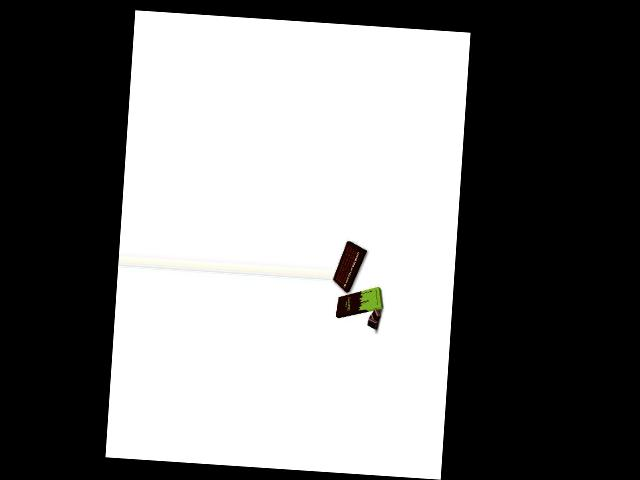chocolate: (335, 286, 385, 317)
